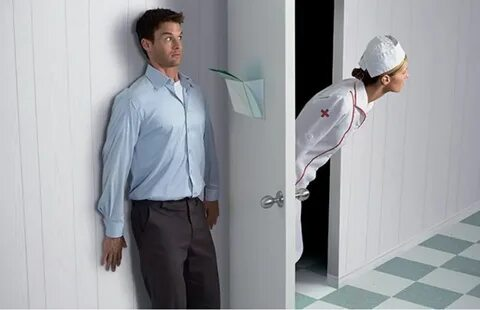awake: (95, 7, 222, 310), (295, 32, 410, 192)
